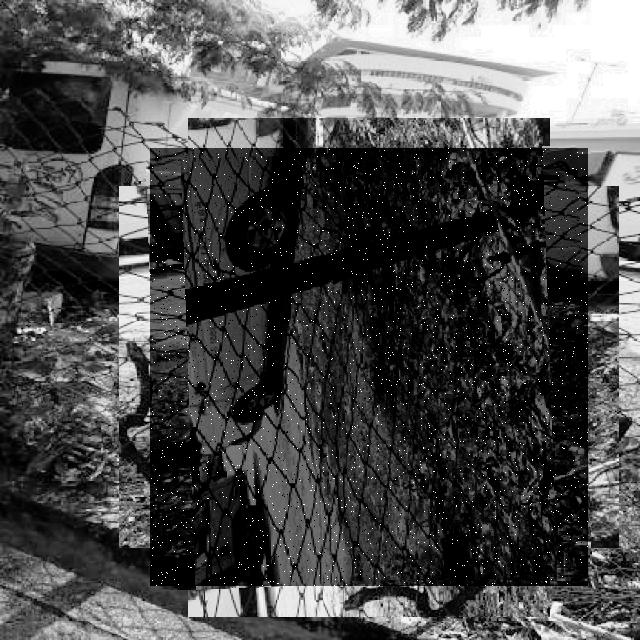fences: (150, 148, 588, 586)
